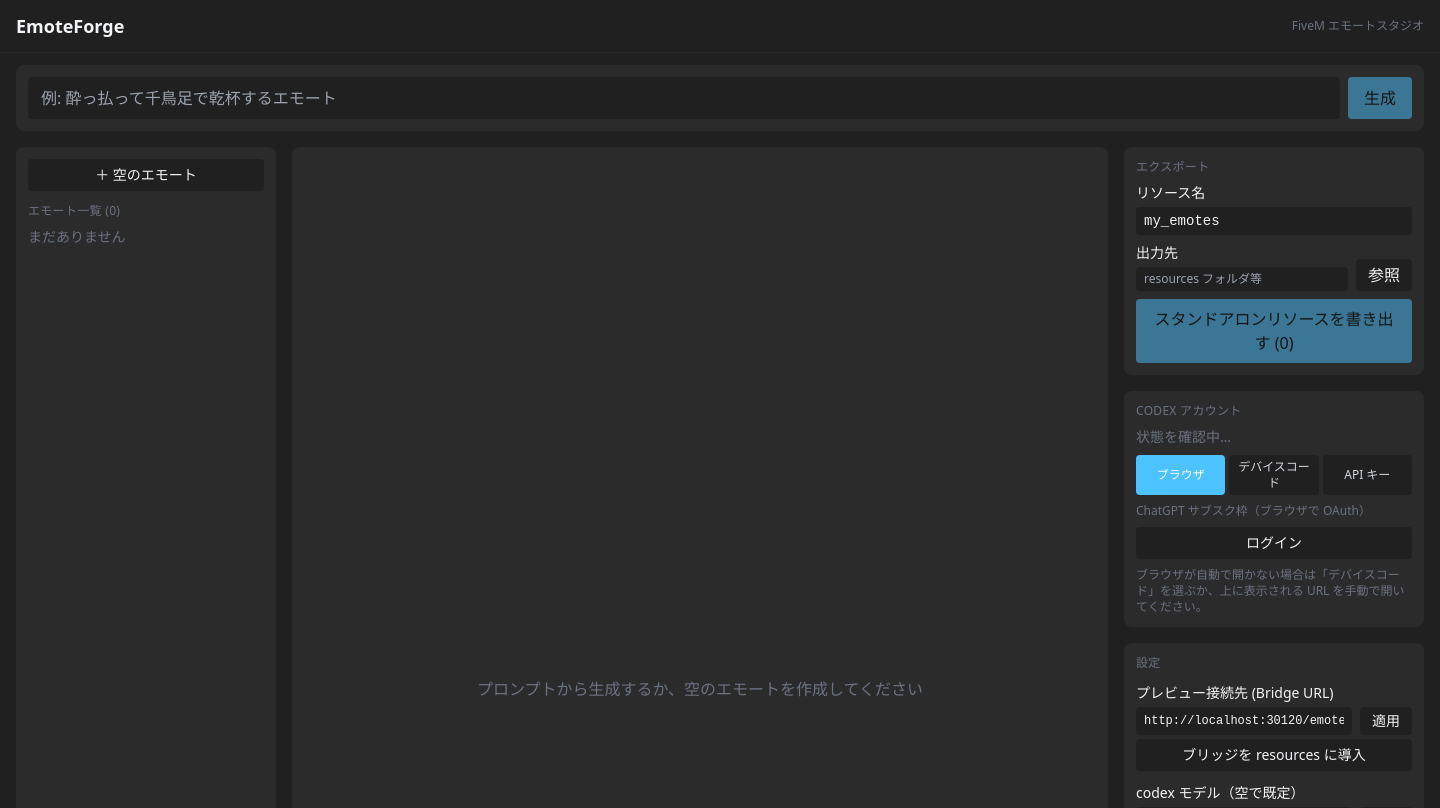
Test: App › clears validation issues when switching emotes
//  emote A
Type "a" into the field named "prompt" at (684,98), box [28, 77, 1340, 119]
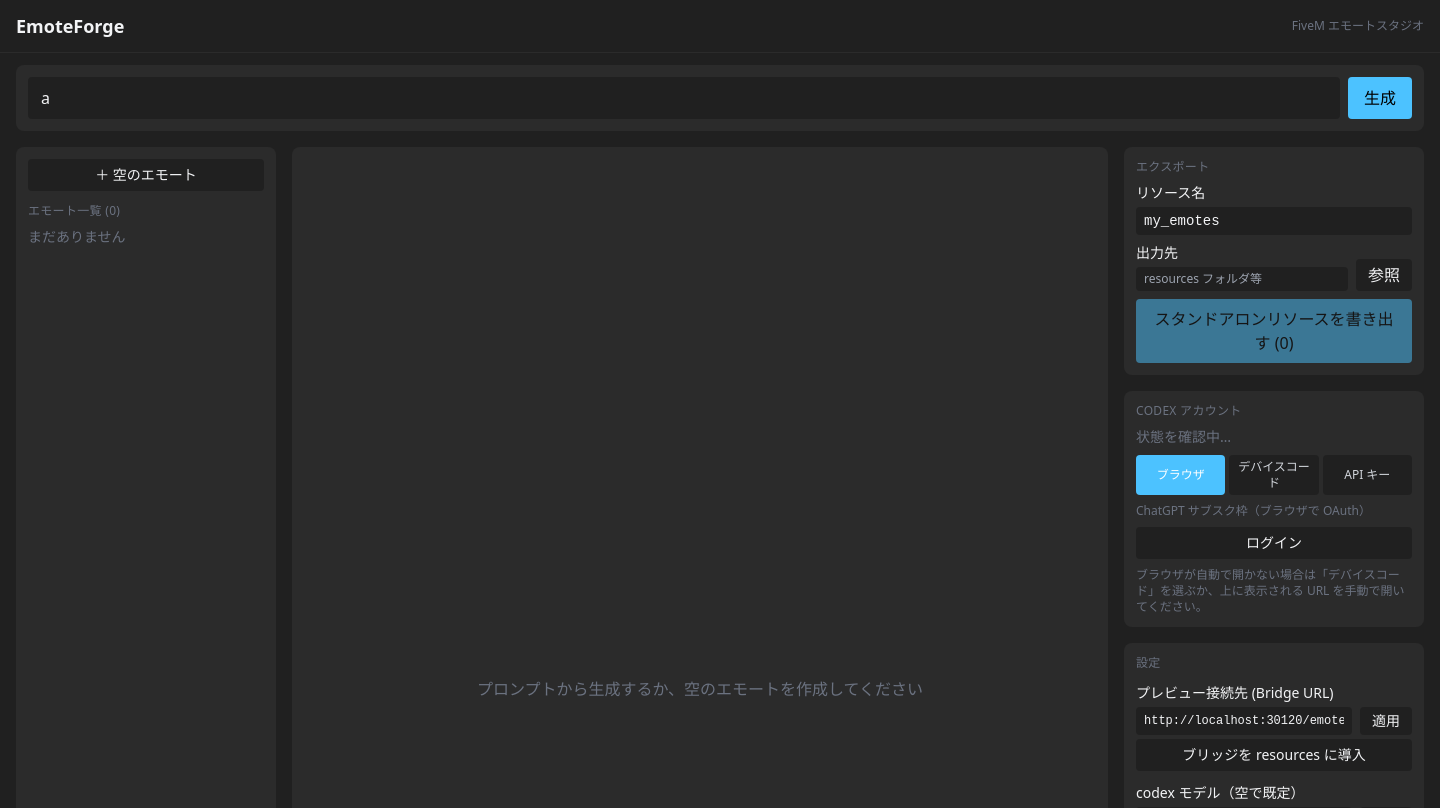
Click the button "生成" at (1380,98), box [1348, 77, 1412, 119]
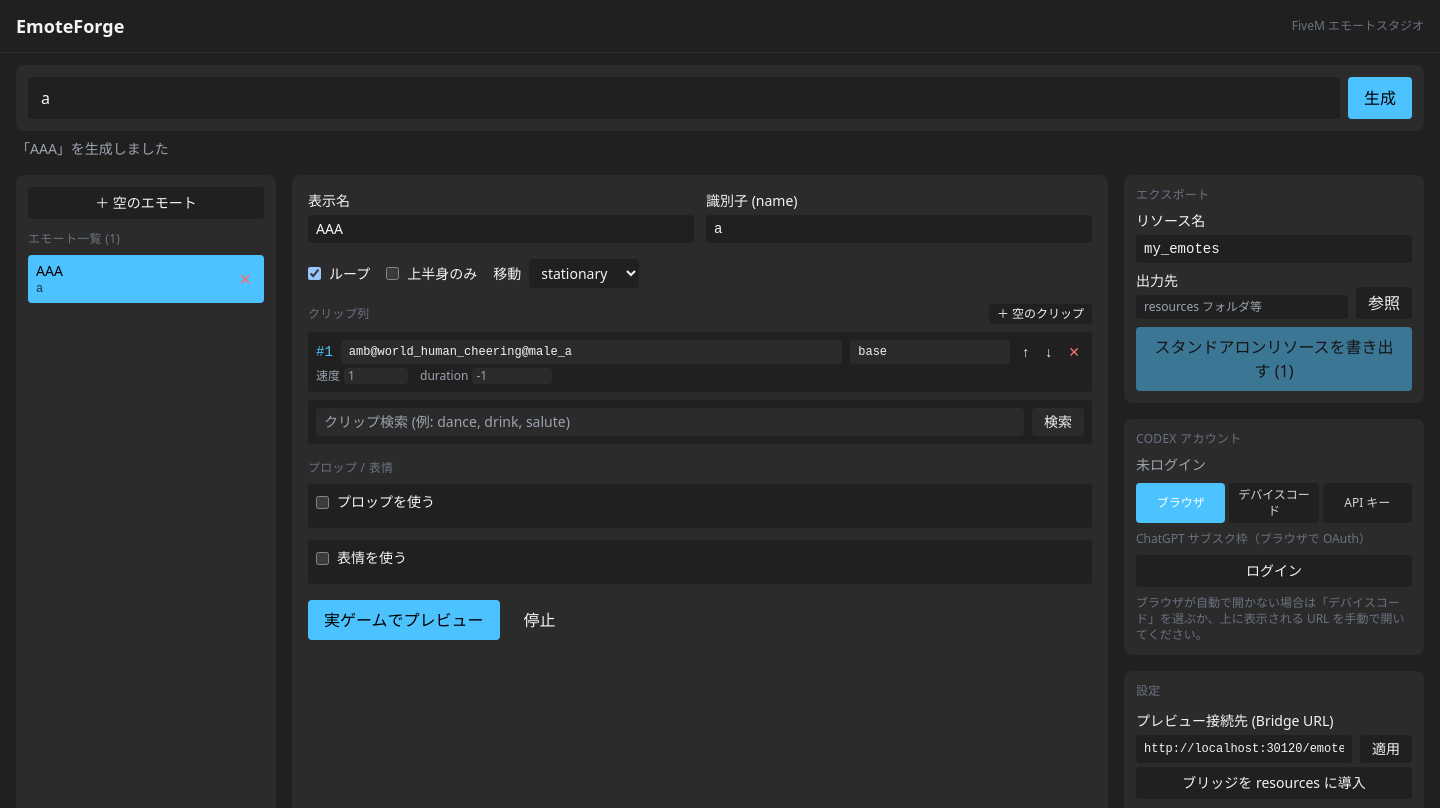
Expected: the field showing "AAA" is shown, [308, 215, 694, 243]
//  emote B
Replace the text in the field named "prompt" with "b" at (684,98), box [28, 77, 1340, 119]
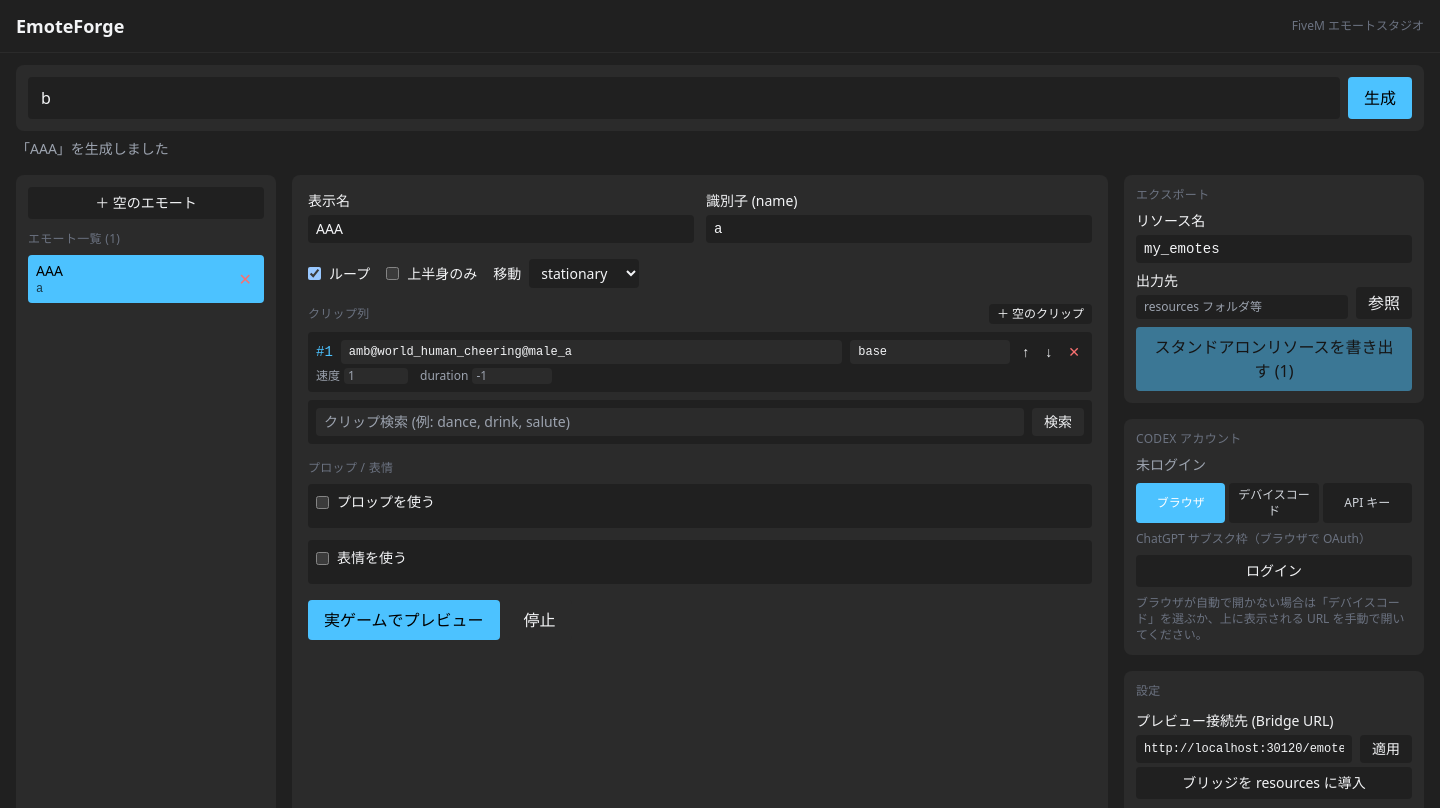
Click the button "生成" at (1380,98), box [1348, 77, 1412, 119]
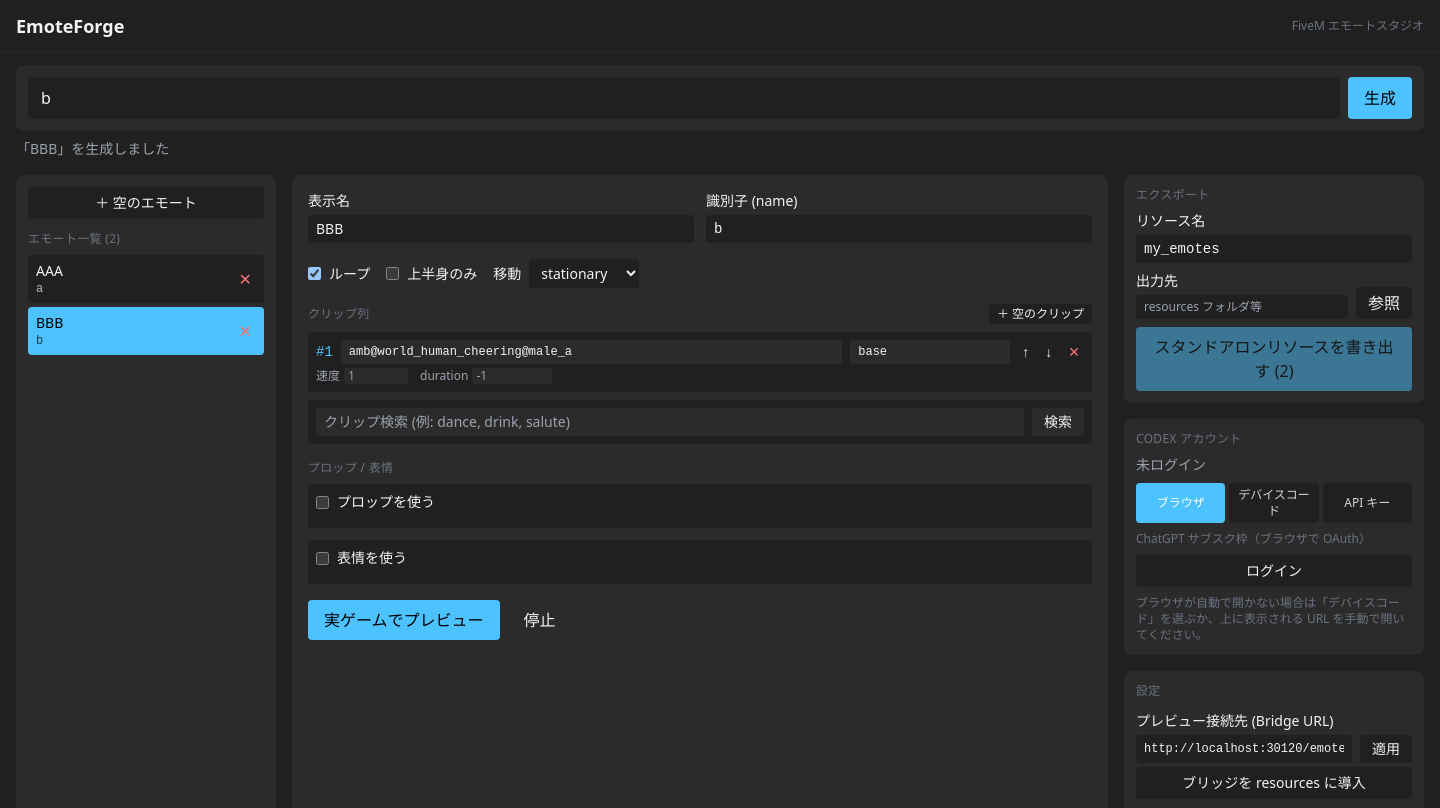
Expected: the field showing "BBB" is shown, [308, 215, 694, 243]
// B を編集して issues を出す
Replace the text in the field labelled "name" with "renamed" at (899,229), box [706, 215, 1092, 243]
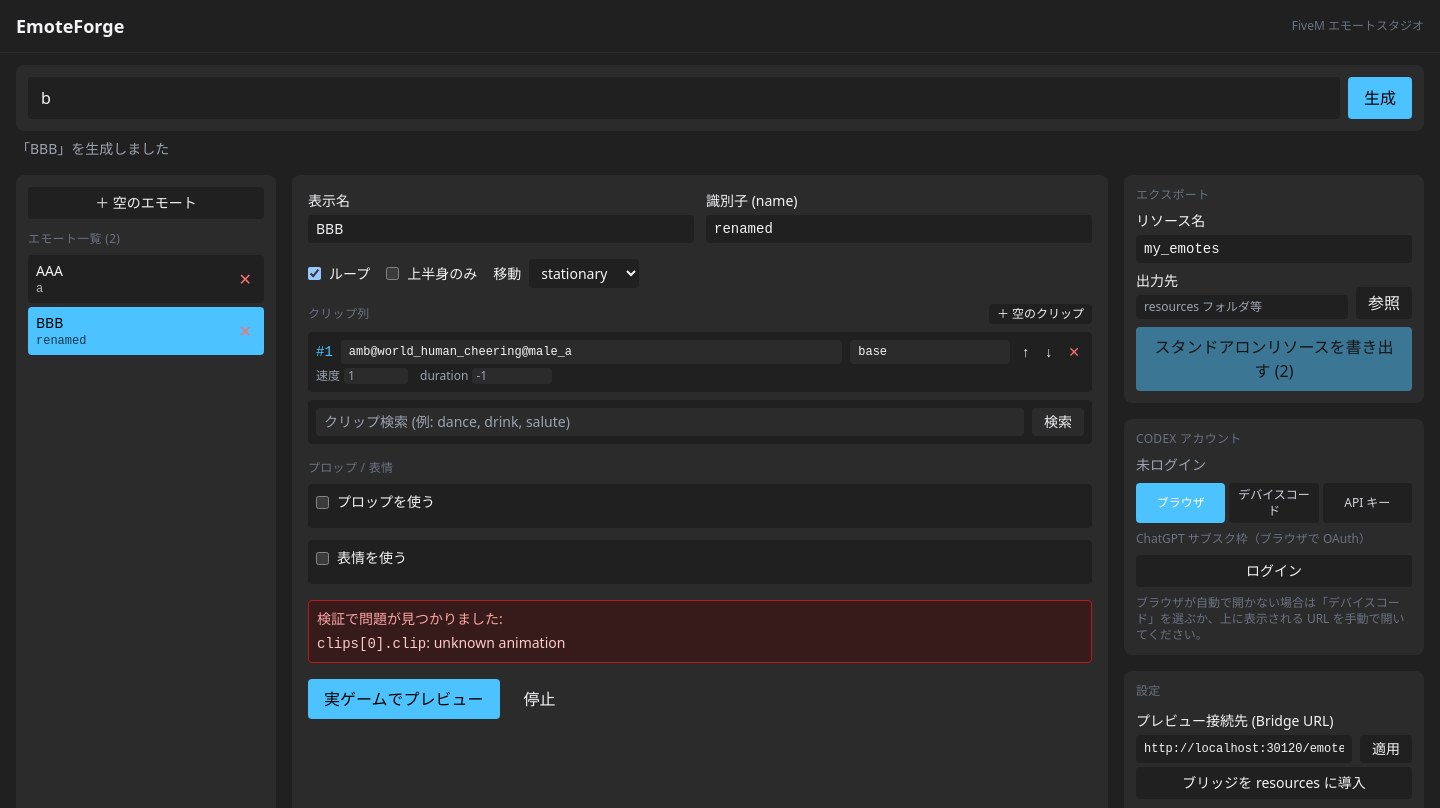
Expected: the list item "clips[0].clip: unknown animation" is shown, [317, 633, 565, 652]
// A に切り替えると B の issues は消える
Click the element with test id "library-item" showing "AAA a ✕" at (146,279), box [28, 255, 264, 303]
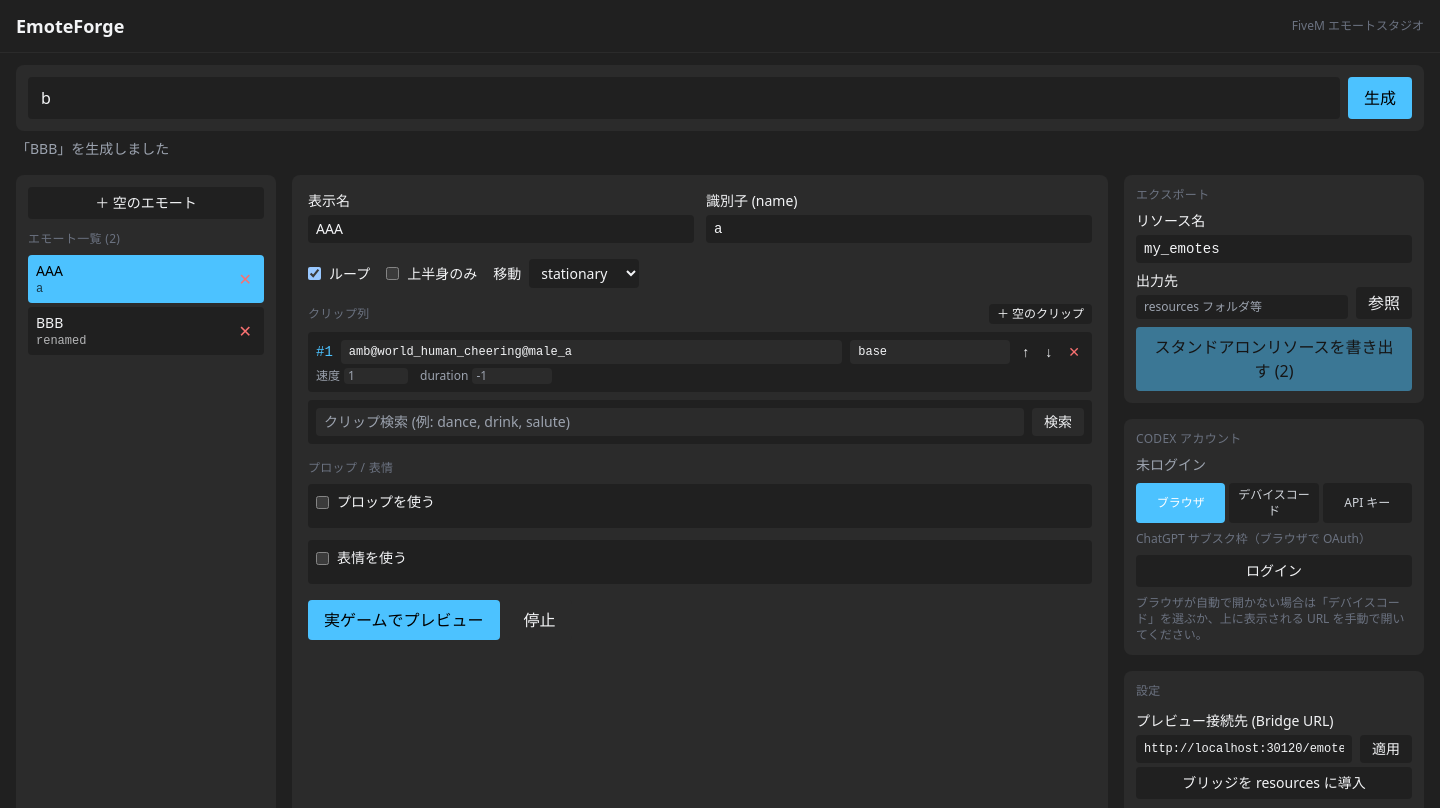
Expected: the list item "unknown animation" is gone
